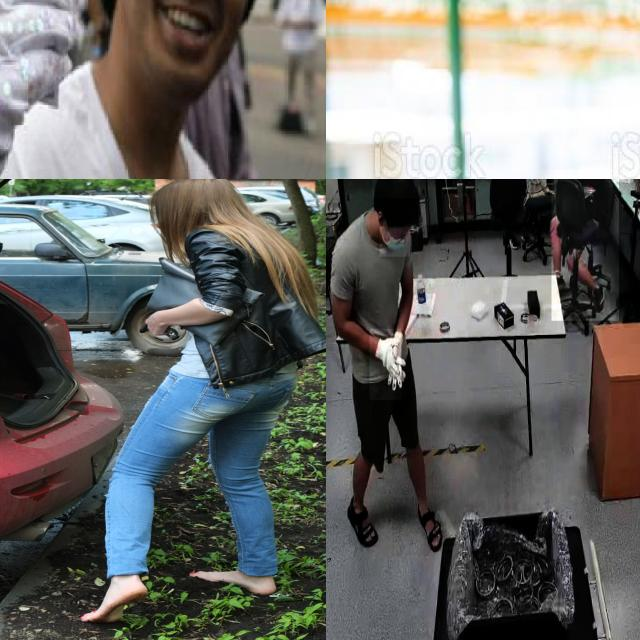Barefoots: (81, 583, 148, 623), (189, 570, 277, 595)
face_mask: (380, 226, 410, 256)
face_nomask: (119, 0, 254, 83)
hand_glove: (0, 0, 82, 179), (370, 329, 402, 401)
head_nohelmet: (372, 179, 420, 198)
person: (0, 0, 284, 179), (327, 179, 454, 554), (551, 179, 619, 321)
